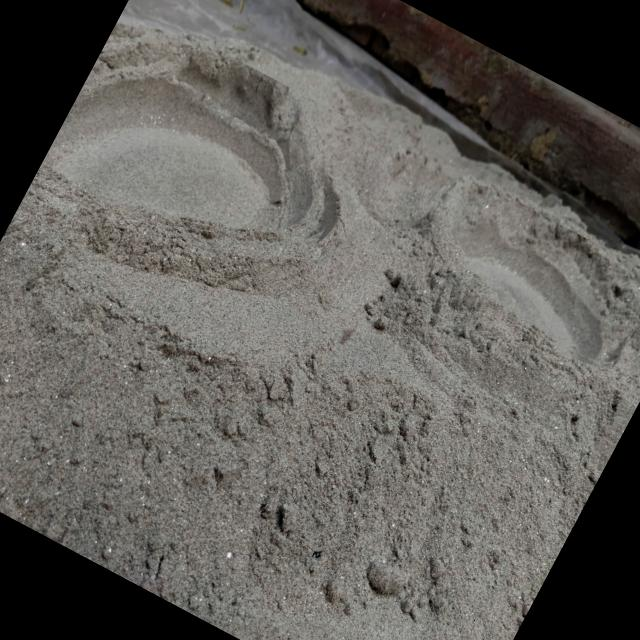C20: (42, 50, 337, 238), (445, 184, 621, 362)
